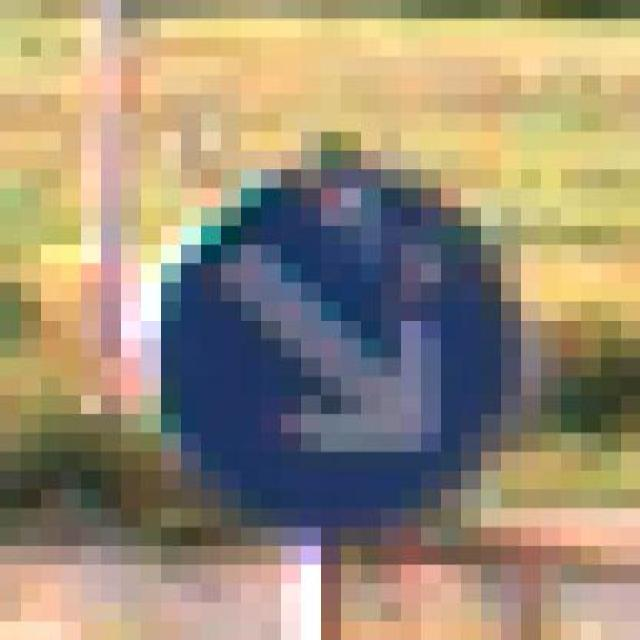Keep-Right: (120, 112, 580, 565)
